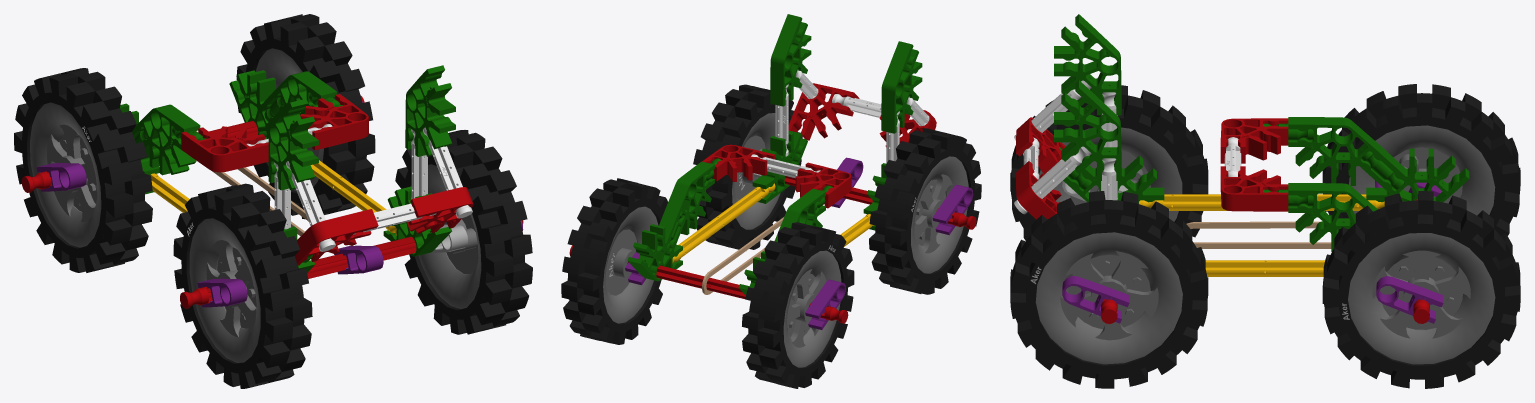
3 renders of one model, left to right at view 1: azimuth 30°, elevation 25°; view 2: azimuth 150°, elevation 25°; view 3: azimuth 270°, elevation 25°, orthographic. The views are drawn at different scales.
Visible parts, largest first — view 1: Untitled.586, Untitled.618, Untitled.606, Untitled.593, Untitled.620, Untitled.630, Untitled.608, Untitled.615, Untitled.614, Untitled.603, Untitled.623, Untitled.601 (+20 smaller); view 2: Untitled.618, Untitled.586, Untitled.593, Untitled.606, Untitled.620, Untitled.630, Untitled.595, Untitled.614, Untitled.615, Untitled.599, Untitled.608, Untitled.613 (+19 smaller); view 3: Untitled.593, Untitled.606, Untitled.608, Untitled.595, Untitled.618, Untitled.586, Untitled.620, Untitled.614, Untitled.623, Untitled.615, Untitled.599, Untitled.630 (+16 smaller).
Boxes of the visible parts, bbox=[...] form: Untitled.586: bbox=[173, 183, 312, 388]; Untitled.618: bbox=[14, 68, 152, 272]; Untitled.606: bbox=[395, 130, 532, 334]; Untitled.593: bbox=[236, 14, 375, 219]; Untitled.620: bbox=[30, 102, 101, 247]; Untitled.630: bbox=[189, 218, 260, 362]; Untitled.608: bbox=[419, 164, 481, 309]; Untitled.615: bbox=[268, 99, 318, 190]; Untitled.614: bbox=[405, 65, 455, 156]; Untitled.603: bbox=[181, 126, 268, 172]; Untitled.623: bbox=[132, 104, 200, 175]; Untitled.601: bbox=[300, 94, 368, 150]; Untitled.618: bbox=[742, 222, 854, 388]; Untitled.586: bbox=[869, 128, 981, 294]; Untitled.593: bbox=[561, 178, 667, 344]; Untitled.606: bbox=[693, 84, 802, 249]; Untitled.620: bbox=[783, 250, 841, 367]; Untitled.630: bbox=[911, 156, 968, 273]; Untitled.595: bbox=[603, 206, 658, 323]; Untitled.614: bbox=[770, 14, 811, 106]; Untitled.615: bbox=[881, 41, 922, 133]; Untitled.599: bbox=[659, 161, 714, 234]; Untitled.608: bbox=[732, 113, 780, 229]; Untitled.613: bbox=[788, 83, 859, 140]; Untitled.593: bbox=[1322, 191, 1520, 388]; Untitled.606: bbox=[1010, 191, 1208, 388]; Untitled.608: bbox=[1035, 232, 1182, 364]; Untitled.595: bbox=[1348, 233, 1495, 364]; Untitled.618: bbox=[1322, 84, 1520, 235]; Untitled.586: bbox=[1010, 85, 1208, 240]; Untitled.620: bbox=[1349, 125, 1495, 215]; Untitled.614: bbox=[1054, 80, 1121, 180]; Untitled.623: bbox=[1288, 117, 1391, 185]; Untitled.615: bbox=[1054, 14, 1121, 115]; Untitled.599: bbox=[1288, 183, 1377, 251]; Untitled.630: bbox=[1039, 127, 1182, 221].
Bounding box in the file's own units: 1.27 × 1.01 × 1.7.
